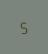five: (19, 20, 27, 34)
